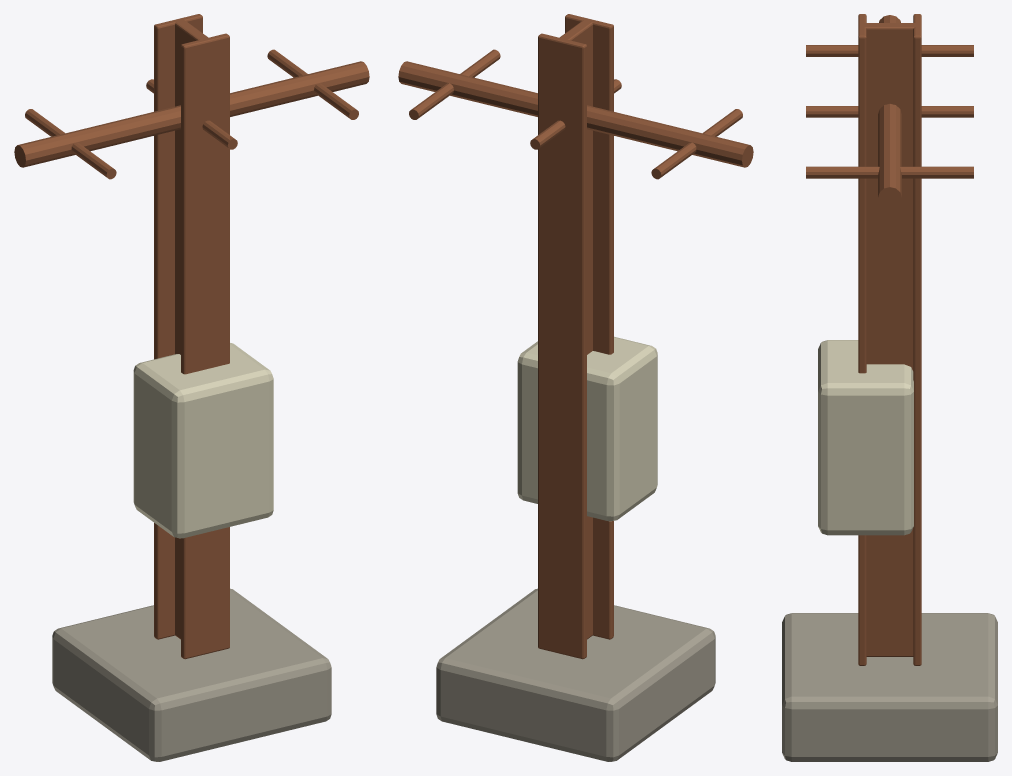
Rendered from Relay_Mast_Barren.glb.
The picture shows the model from 3 angles, left to right: view 1: azimuth 30°, elevation 25°; view 2: azimuth 150°, elevation 25°; view 3: azimuth 270°, elevation 25°; orthographic projection. The views are drawn at different scales.
Visible parts, largest first — view 1: Structure; view 2: Structure; view 3: Structure.
Part boxes in pixels (x1,y1,x2,y2): Structure: (14,14,369,761); Structure: (398,14,753,761); Structure: (782,14,997,761).
Bounding box in the file's own units: 1.7 × 3.2 × 0.9.
